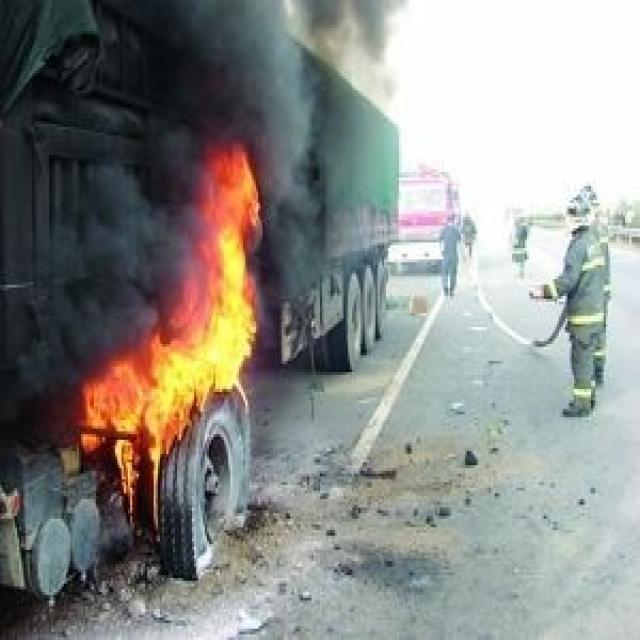Smoke: (16, 0, 406, 394)
